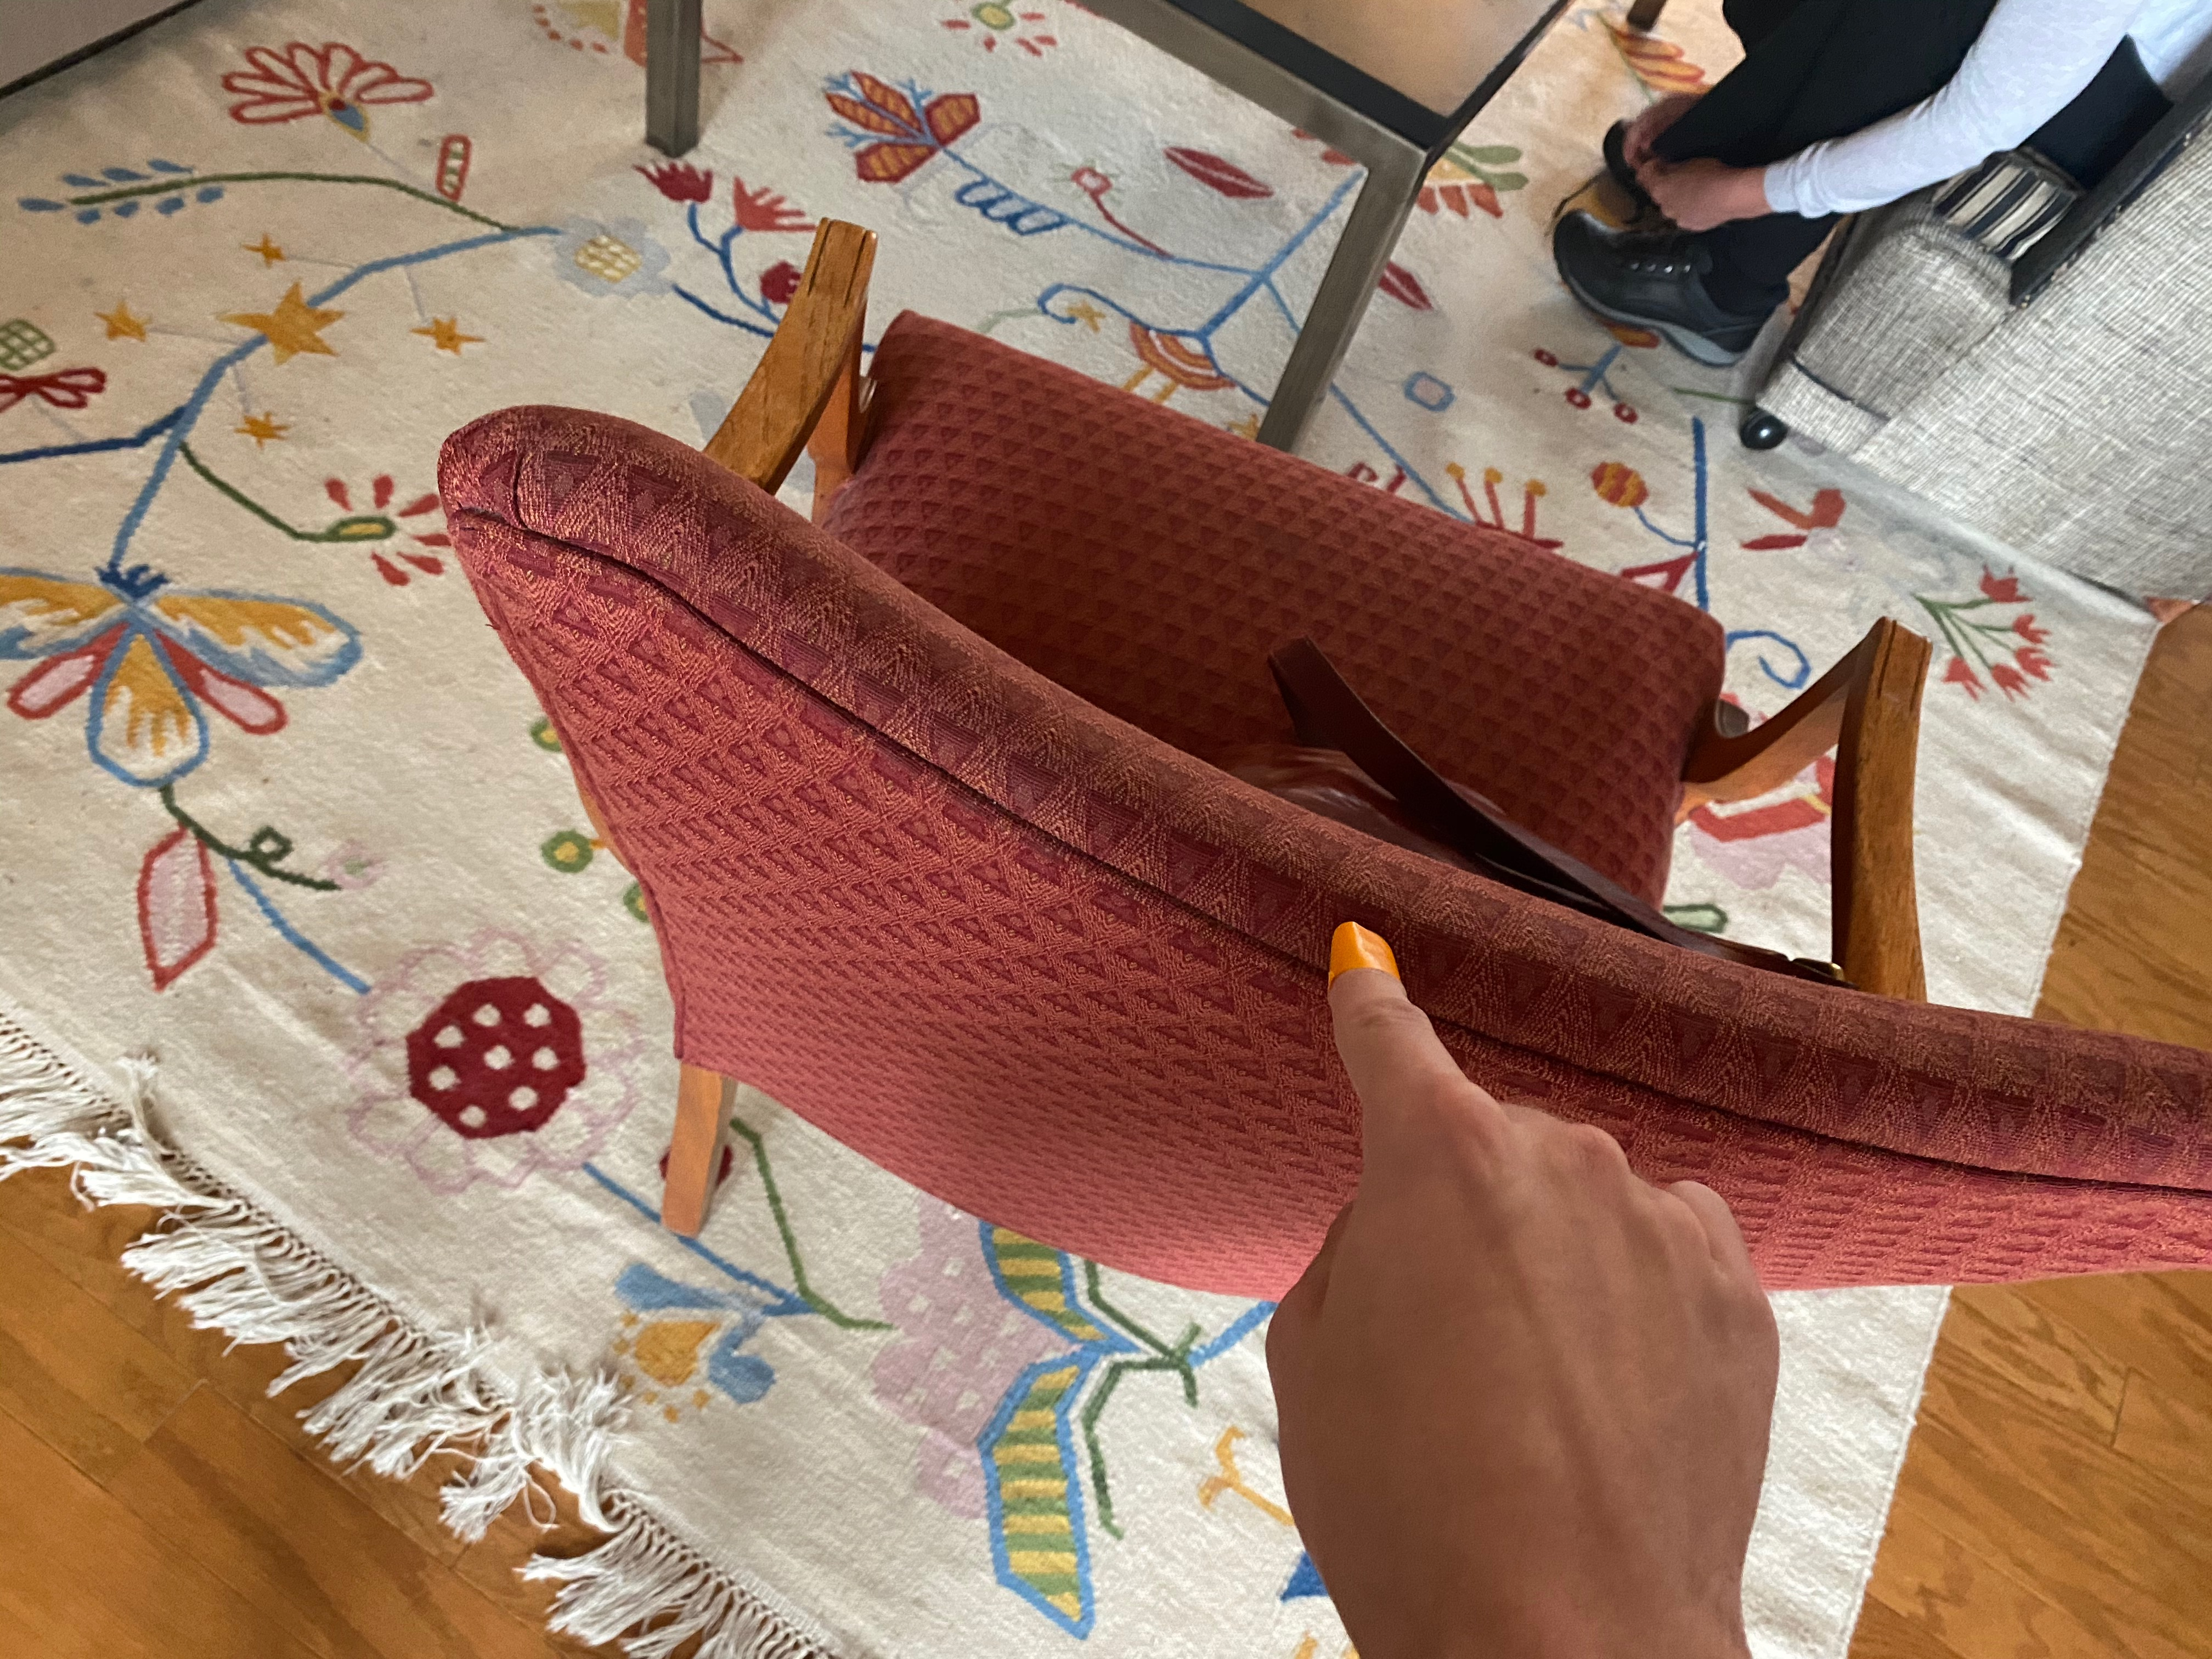fingertip: (1310, 917, 1421, 1006)
